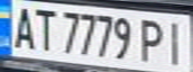7: (54, 8, 81, 55), (93, 11, 115, 58), (75, 10, 96, 56)
9: (112, 12, 139, 61)
A: (6, 2, 39, 51)
I: (160, 17, 193, 66)
P: (136, 16, 169, 64)
T: (30, 4, 57, 52)
